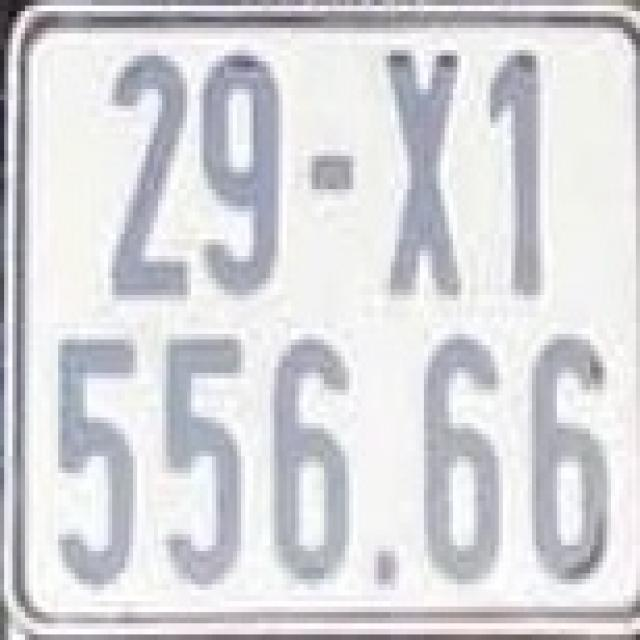1: (482, 38, 557, 300)
2: (100, 44, 196, 300)
5: (50, 323, 142, 584), (158, 328, 249, 584)
6: (416, 328, 508, 584), (266, 328, 358, 584), (524, 323, 612, 584)
9: (196, 44, 286, 295)
X: (378, 38, 470, 300)
